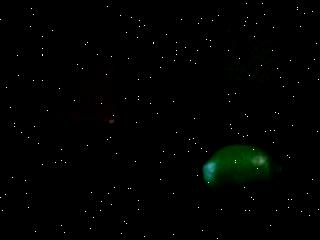Lime: (200, 144, 286, 203)
